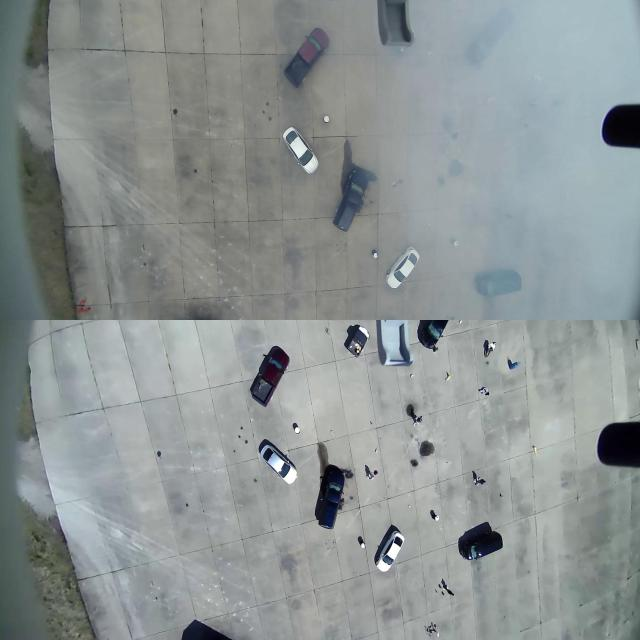car: (271, 22, 342, 93), (244, 337, 292, 407), (278, 121, 319, 183), (254, 435, 299, 488), (338, 164, 369, 238), (317, 461, 344, 542), (384, 238, 422, 294), (469, 263, 525, 297), (375, 524, 406, 582), (460, 526, 504, 561)
